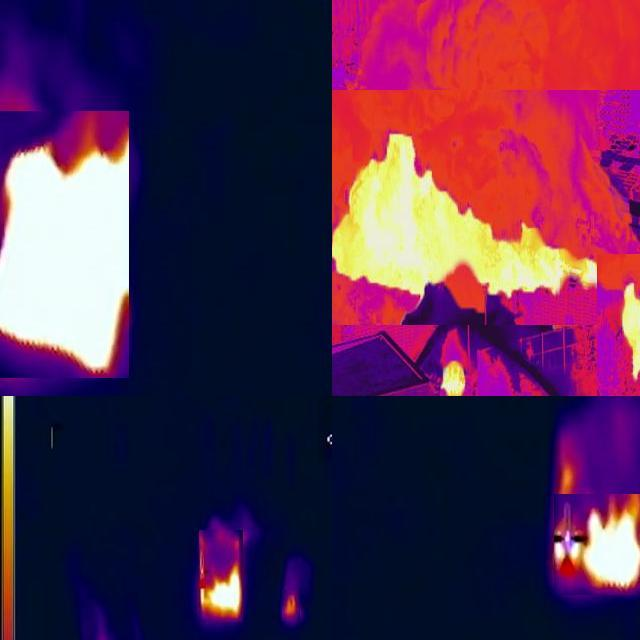fire: (333, 124, 600, 299), (1, 112, 130, 379), (555, 495, 640, 596), (200, 531, 244, 623), (620, 273, 640, 383), (438, 357, 468, 398), (283, 591, 301, 622)
